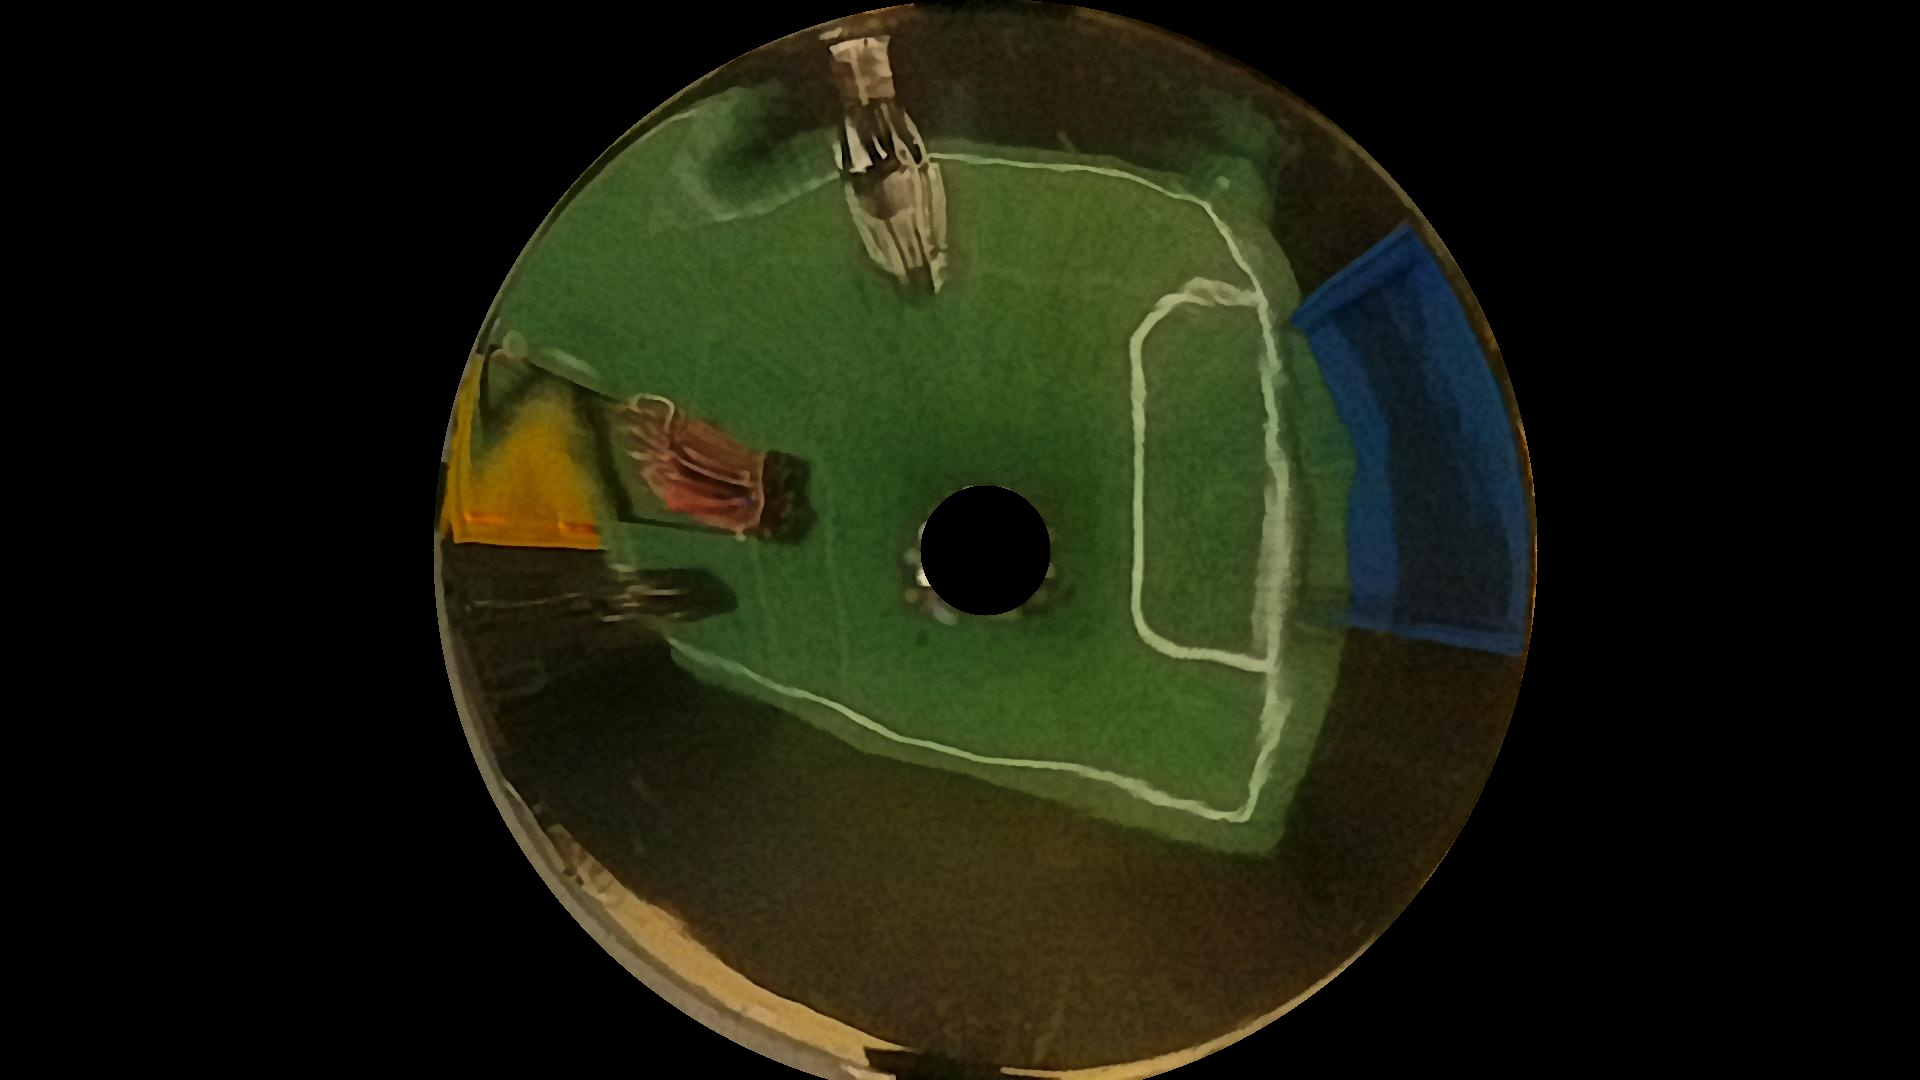blue-goal: (1309, 232, 1571, 665)
robots: (477, 332, 858, 535), (800, 0, 984, 306)
yellow-goal: (456, 340, 592, 553)
